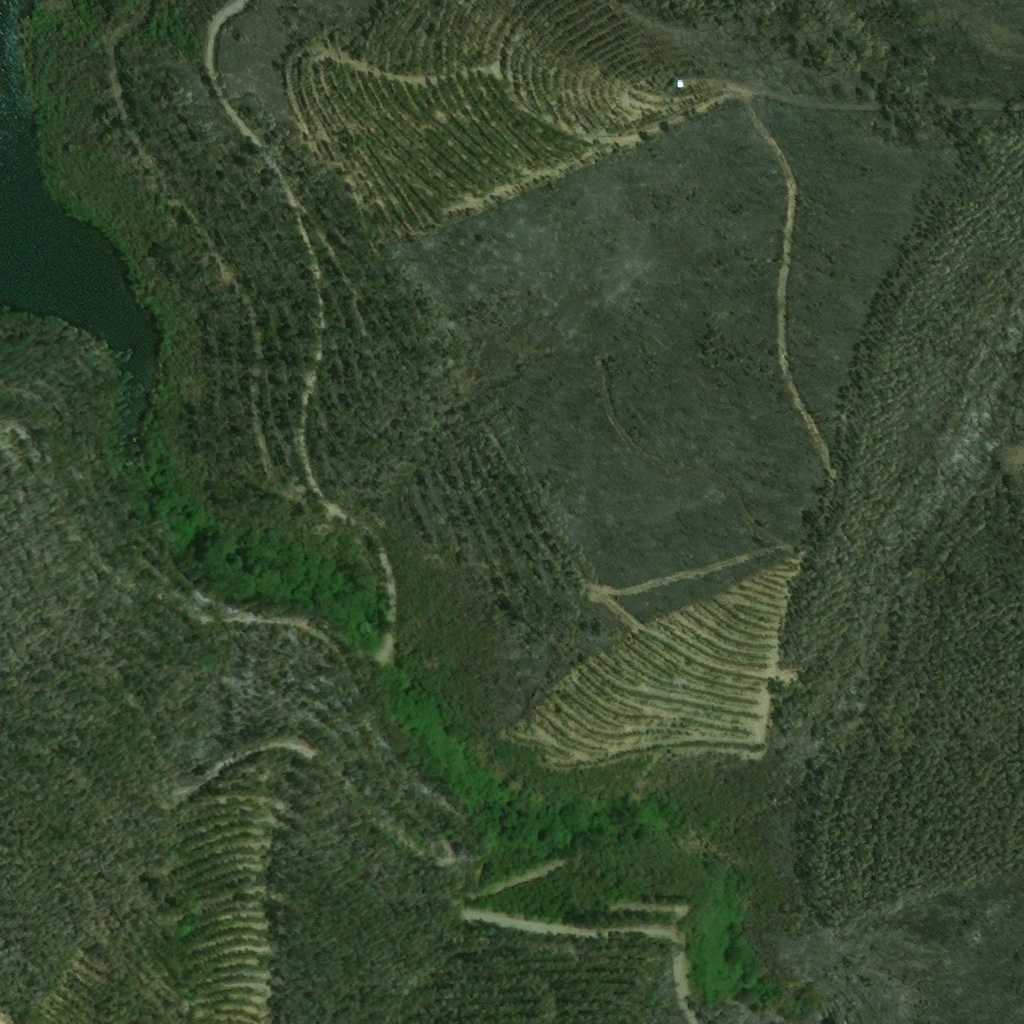0 no-damage: (678, 79, 685, 87)
